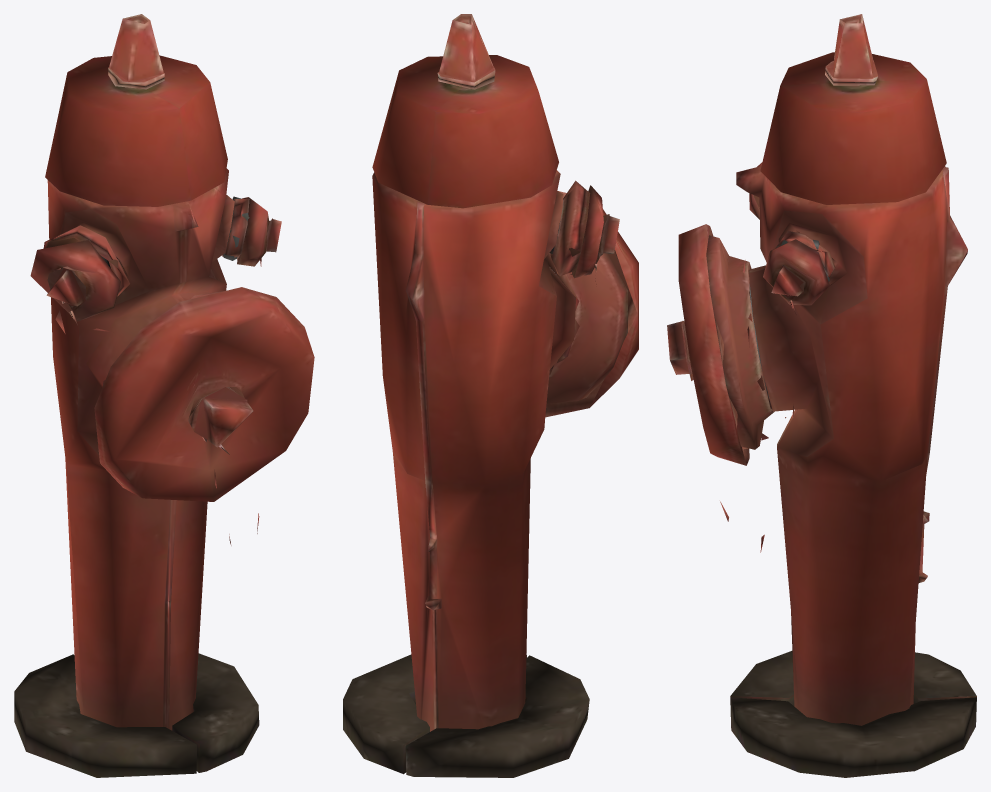
The model's file is hydrant.glb.
3 renders of one model, left to right at view 1: azimuth 30°, elevation 25°; view 2: azimuth 150°, elevation 25°; view 3: azimuth 270°, elevation 25°, orthographic.
Parts seen in each view (by area): view 1: fire_hydrant; view 2: fire_hydrant; view 3: fire_hydrant.
Boxes of the visible parts, box(x1,y1,x2,y2) form: fire_hydrant: box(14, 14, 314, 777); fire_hydrant: box(343, 14, 638, 777); fire_hydrant: box(667, 14, 976, 777).
Size of the model in its own units: 0.2728 by 0.7992 by 0.3173.
1 material, 1 textured.
